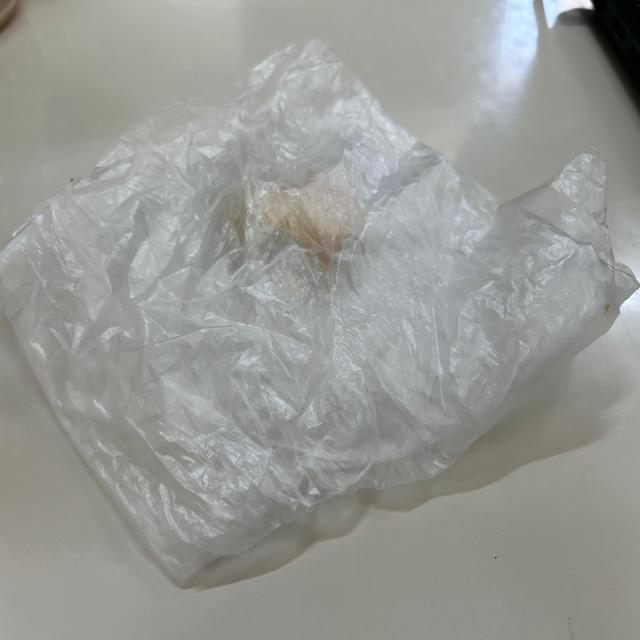inorganic: (2, 37, 639, 586)
